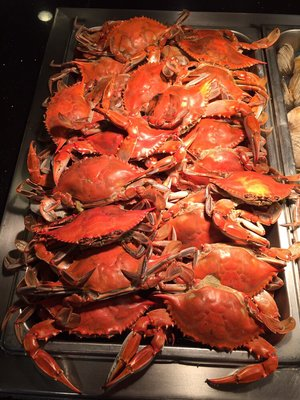sandwich: (6, 13, 300, 380)
